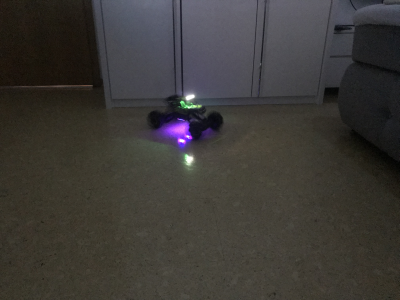remote control car: (144, 89, 225, 140)
